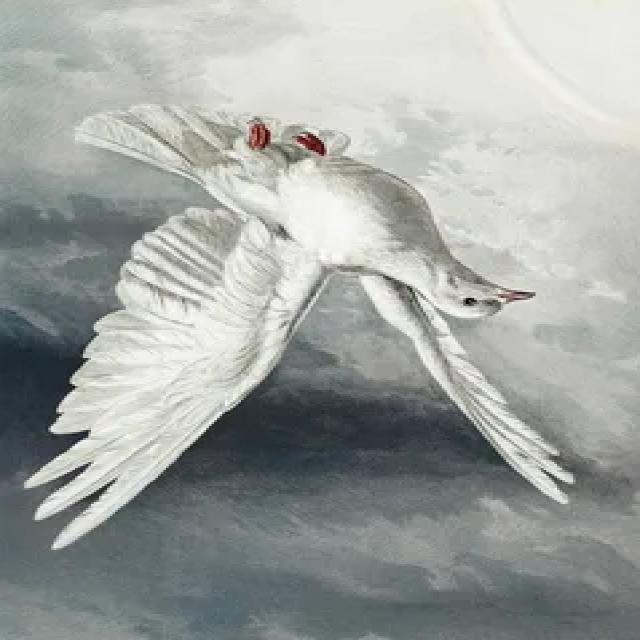pigeon: (17, 100, 578, 551)
